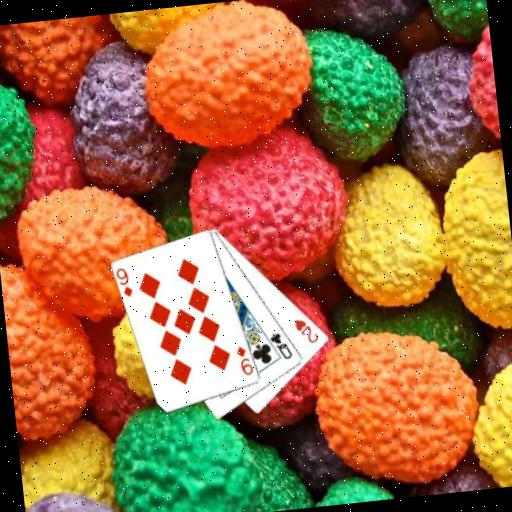2H: (291, 315, 321, 347)
9D: (233, 343, 255, 379), (114, 264, 136, 300)
QC: (267, 329, 295, 363)
